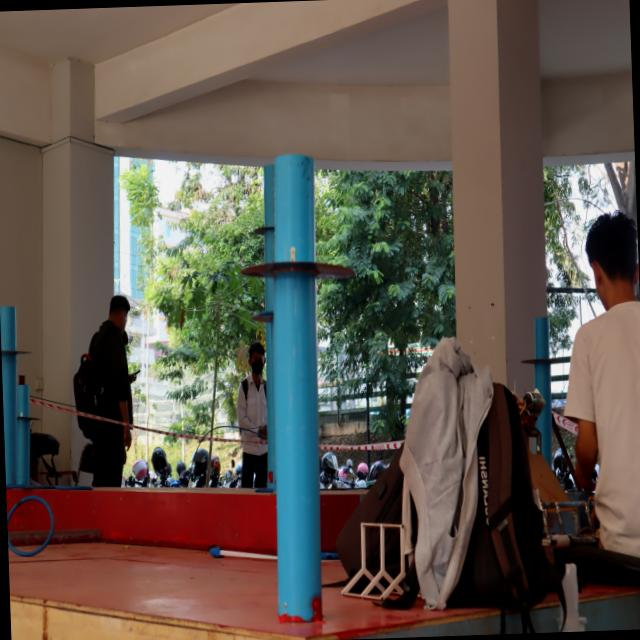pole: (241, 142, 362, 324), (0, 304, 34, 369), (10, 382, 40, 440)
